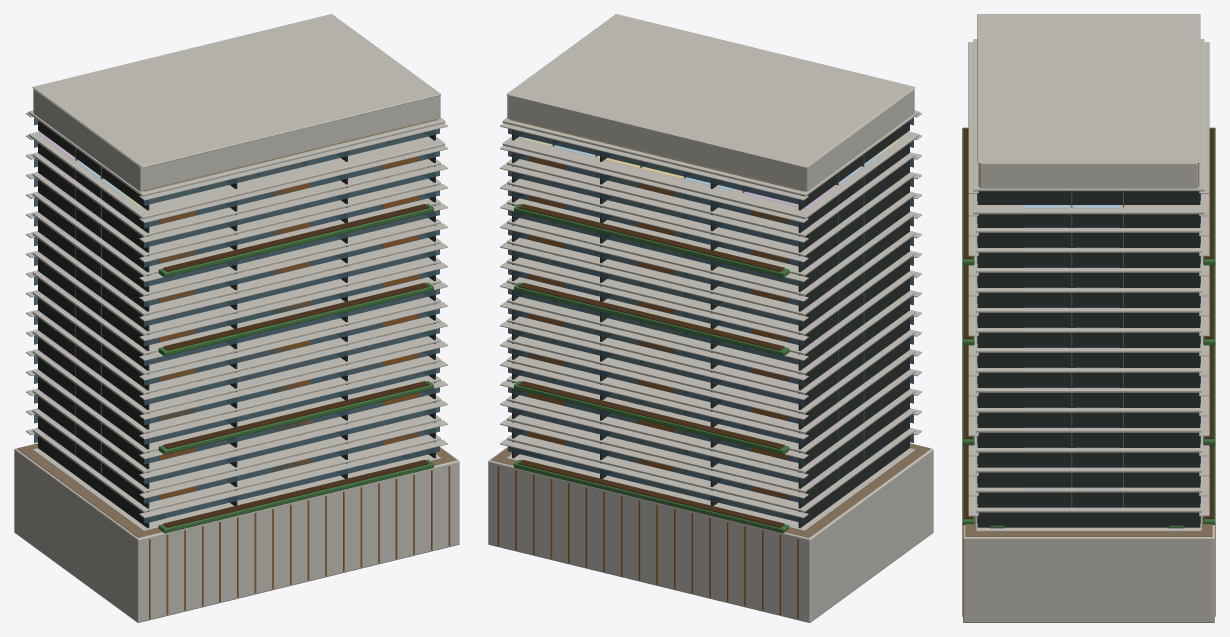
Rendered from garden-lofts-exterior.glb.
3 views of the same model, side by side, from view 1: azimuth 30°, elevation 25°; view 2: azimuth 150°, elevation 25°; view 3: azimuth 270°, elevation 25° (orthographic).
Parts seen in each view (by area): view 1: GL_Podium_Massing, GL_Roof_Canopy, GL_Roof_Parapet, GL_Premium_Frame_64.91, GL_Slab_11, GL_Slab_17, GL_Slab_14, GL_Slab_04, GL_Slab_06, GL_Slab_09, GL_Slab_10, GL_Slab_13 (+67 smaller); view 2: GL_Podium_Massing, GL_Roof_Canopy, GL_Roof_Parapet.001, GL_Premium_Frame_64.91, GL_Slab_09, GL_Slab_06, GL_Slab_17, GL_Slab_10, GL_Slab_11, GL_Slab_05, GL_Slab_13, GL_Slab_14 (+67 smaller); view 3: GL_Roof_Canopy, GL_Podium_Massing, GL_Roof_Parapet.003, GL_Column_08_51, GL_Column_09_51, GL_Column_10_51, GL_Column_11_51, GL_Column_12_51, GL_Column_13_51, GL_Column_14_51, GL_Column_15_51, GL_Column_16_51 (+39 smaller).
Boxes of the visible parts, <box> form: GL_Podium_Massing: <box>14,443,459,622</box>; GL_Roof_Canopy: <box>32,14,441,167</box>; GL_Roof_Parapet: <box>141,96,439,191</box>; GL_Premium_Frame_64.91: <box>28,131,445,219</box>; GL_Slab_11: <box>32,290,441,374</box>; GL_Slab_17: <box>32,172,441,256</box>; GL_Slab_14: <box>32,231,441,315</box>; GL_Slab_04: <box>32,428,441,512</box>; GL_Slab_06: <box>32,389,441,473</box>; GL_Slab_09: <box>32,330,441,414</box>; GL_Slab_10: <box>32,310,441,394</box>; GL_Slab_13: <box>32,251,441,335</box>; GL_Podium_Massing: <box>488,443,933,622</box>; GL_Roof_Canopy: <box>506,14,915,167</box>; GL_Roof_Parapet.001: <box>508,96,806,191</box>; GL_Premium_Frame_64.91: <box>502,131,919,219</box>; GL_Slab_09: <box>506,330,915,414</box>; GL_Slab_06: <box>506,389,915,473</box>; GL_Slab_17: <box>506,172,915,256</box>; GL_Slab_10: <box>506,310,915,394</box>; GL_Slab_11: <box>506,290,915,374</box>; GL_Slab_05: <box>506,409,915,492</box>; GL_Slab_13: <box>506,251,915,335</box>; GL_Slab_14: <box>506,231,915,315</box>; GL_Roof_Canopy: <box>977,14,1200,163</box>; GL_Podium_Massing: <box>963,525,1214,622</box>; GL_Roof_Parapet.003: <box>980,163,1197,188</box>; GL_Column_08_51: <box>977,432,1200,447</box>; GL_Column_09_51: <box>977,412,1200,427</box>; GL_Column_10_51: <box>977,392,1200,407</box>; GL_Column_11_51: <box>977,372,1200,387</box>; GL_Column_12_51: <box>977,352,1200,367</box>; GL_Column_13_51: <box>977,332,1200,347</box>; GL_Column_14_51: <box>977,312,1200,327</box>; GL_Column_15_51: <box>977,292,1200,307</box>; GL_Column_16_51: <box>977,272,1200,287</box>.
Size of what is drawn, in the model's own units: 54.86 by 72.93 by 36.8.
